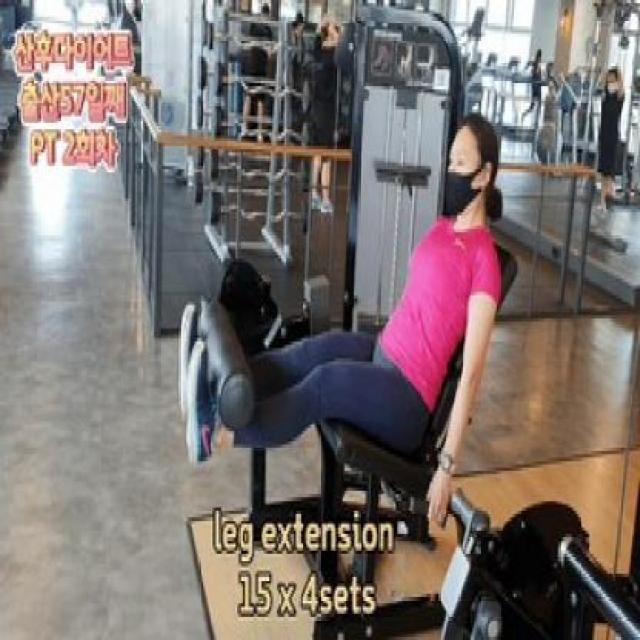leg extension: (168, 0, 492, 640)
